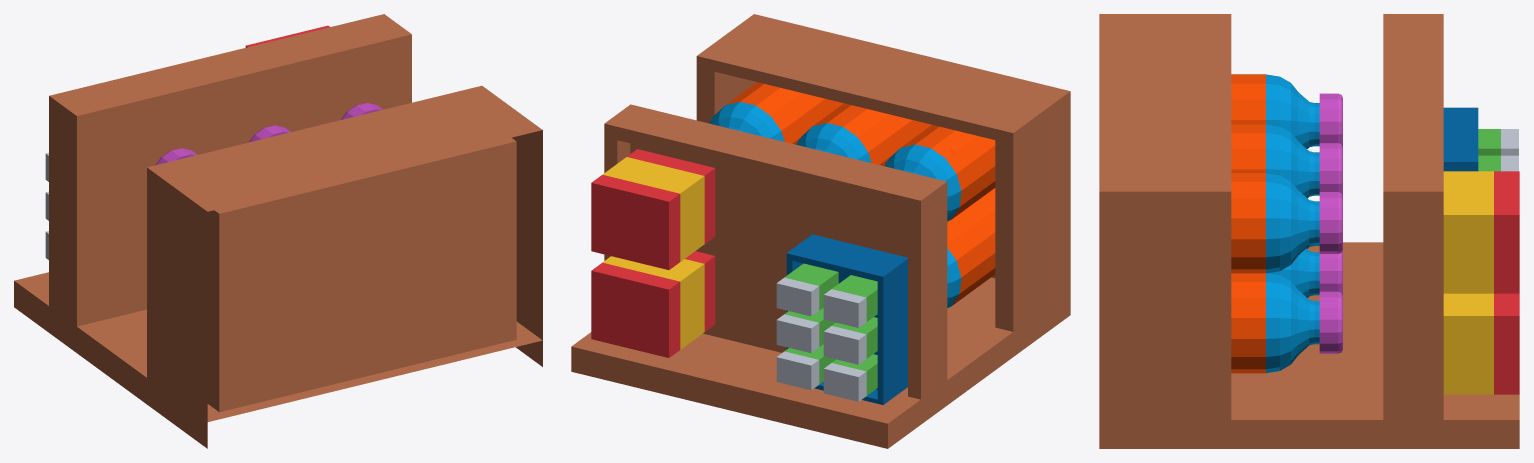
Rendered from rack.fbx.
3 views of the same model, side by side, from view 1: azimuth 30°, elevation 25°; view 2: azimuth 150°, elevation 25°; view 3: azimuth 270°, elevation 25° (orthographic). The views are drawn at different scales.
Visible parts, largest first — view 1: rack; view 2: rack; view 3: rack.
Boxes of the visible parts, bbox=[...] form: rack: bbox=[14, 14, 542, 448]; rack: bbox=[571, 14, 1070, 448]; rack: bbox=[1099, 14, 1519, 448].
Size of the model in its own units: 272 by 184 by 272.
